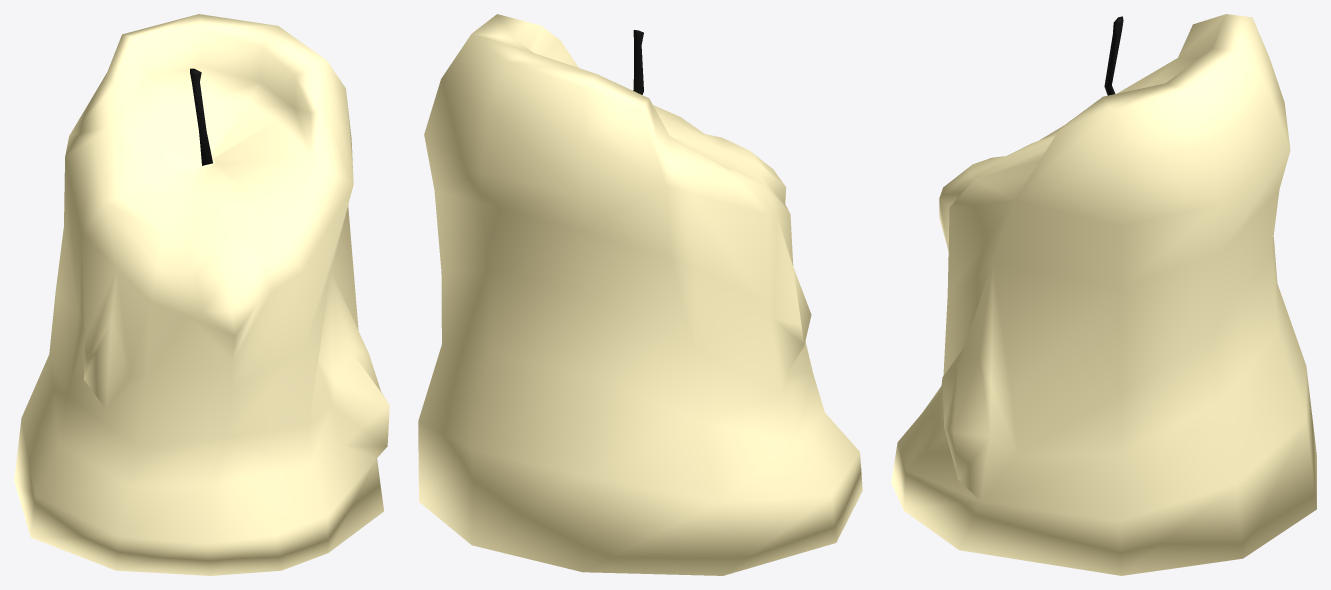
The model's file is candle01.fbx.
The picture shows the model from 3 angles, left to right: view 1: azimuth 30°, elevation 25°; view 2: azimuth 150°, elevation 25°; view 3: azimuth 270°, elevation 25°; orthographic projection. The views are drawn at different scales.
Visible parts, largest first — view 1: candle01; view 2: candle01; view 3: candle01.
Boxes of the visible parts, left/top/right/bottom form: candle01: left=14, top=14, right=389, bottom=575; candle01: left=418, top=14, right=862, bottom=575; candle01: left=891, top=14, right=1316, bottom=575.
Size of the model in its own units: 8.75 by 10.3 by 8.39.
